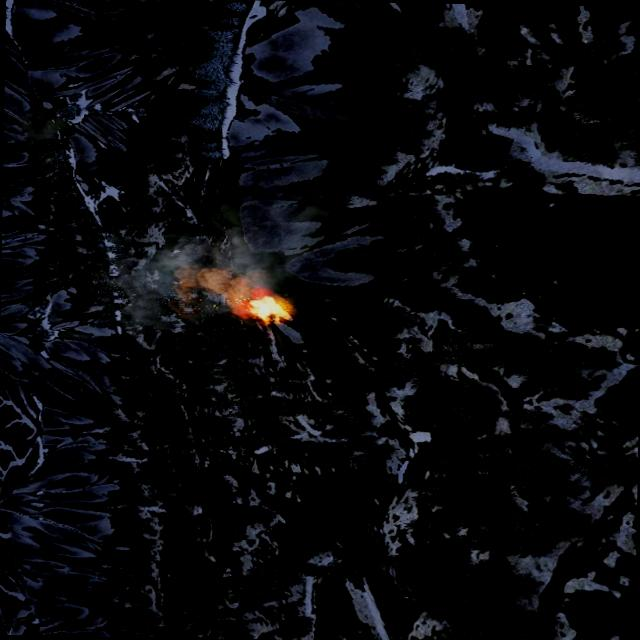fire: (246, 294, 292, 323)
smoke: (101, 191, 328, 328)
